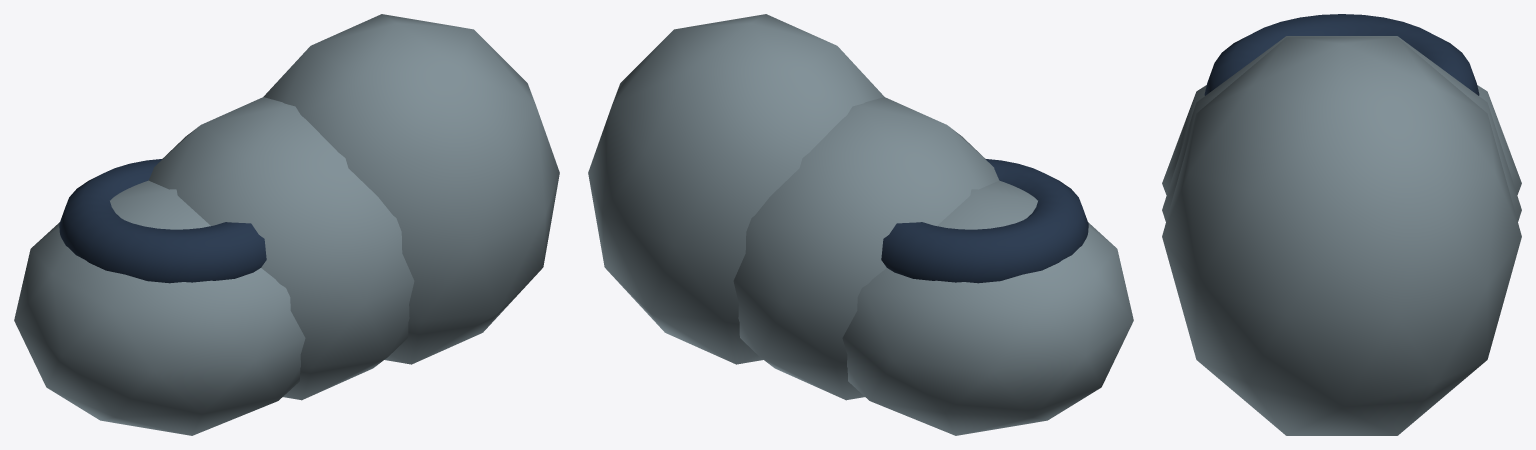
The model's file is Geyser_vent.glb.
3 renders of one model, left to right at view 1: azimuth 30°, elevation 25°; view 2: azimuth 150°, elevation 25°; view 3: azimuth 270°, elevation 25°, orthographic. The views are drawn at different scales.
Parts seen in each view (by area): view 1: Rock.008, Rock.006, Rock.007, Vent; view 2: Rock.008, Rock.006, Rock.007, Vent; view 3: Rock.008, Vent, Rock.007, Rock.006.
Boxes of the visible parts, box(x1,y1,x2,y2) form: Rock.008: box(263, 14, 559, 364); Rock.006: box(14, 180, 305, 435); Rock.007: box(148, 97, 414, 400); Vent: box(59, 159, 266, 283); Rock.008: box(588, 14, 884, 364); Rock.006: box(842, 180, 1133, 435); Rock.007: box(733, 97, 999, 400); Vent: box(881, 159, 1088, 283); Rock.008: box(1162, 37, 1521, 435); Vent: box(1204, 14, 1479, 95); Rock.007: box(1162, 36, 1521, 221); Rock.006: box(1162, 85, 1521, 194).
Size of the model in its own units: 2.04 by 1.34 by 1.1.
